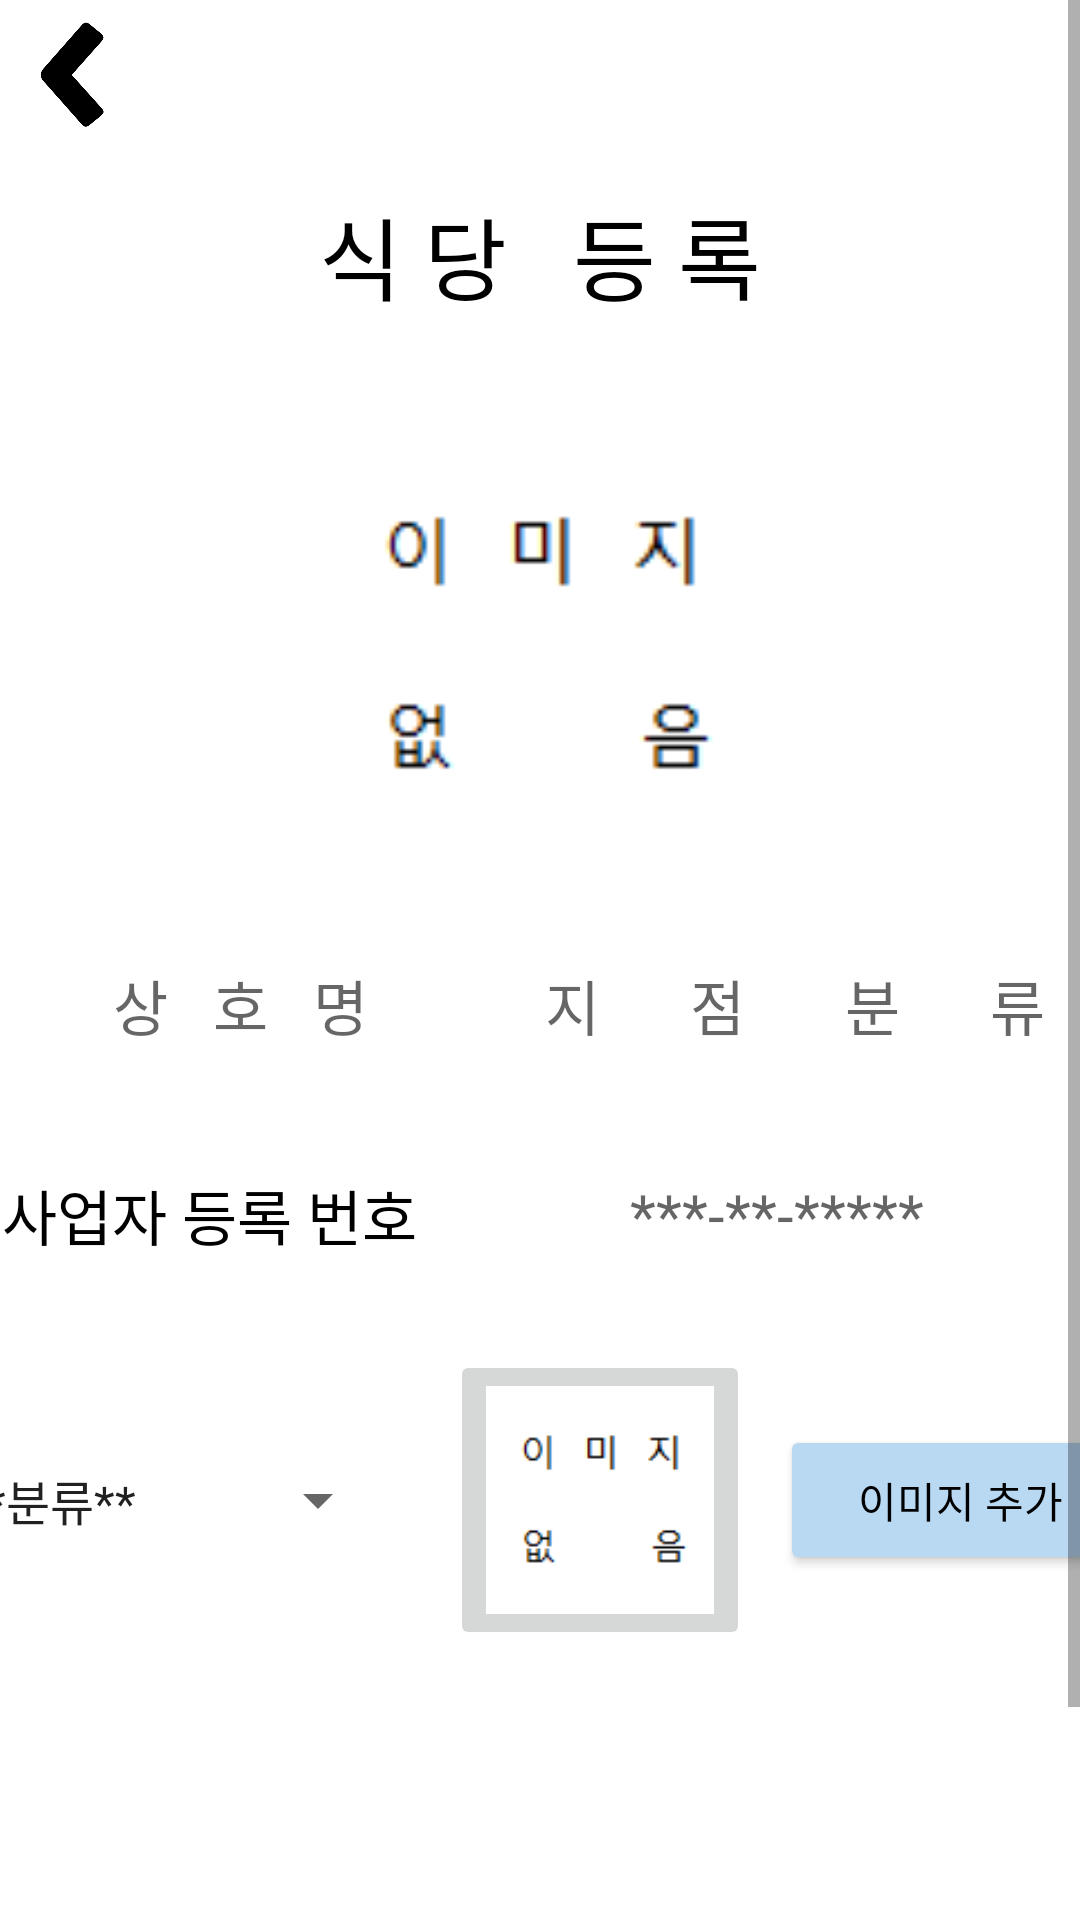

Icon bounding boxes for this 1080×1920 phone screenshot, format bbox=(x1, y1, x2, y2):
backbutton: bbox=(41, 22, 104, 127)
